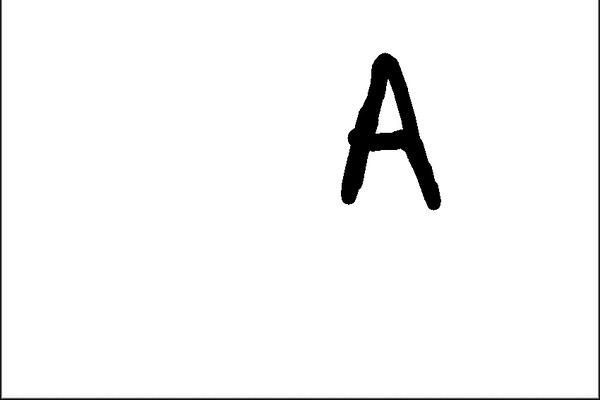A: (332, 40, 453, 221)
